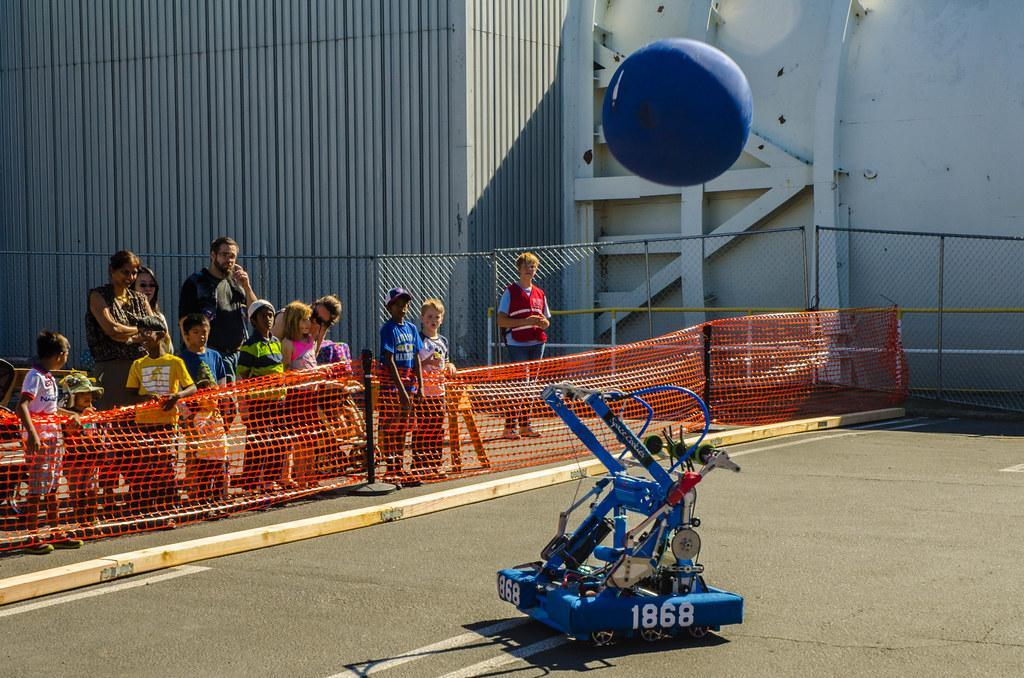robot: (489, 377, 749, 657)
